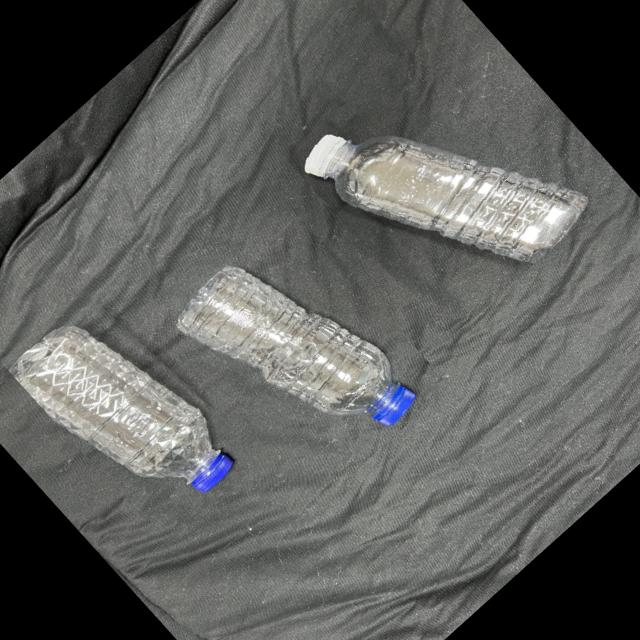plastic bottle: (161, 248, 445, 446), (3, 304, 260, 511), (292, 106, 600, 276)
